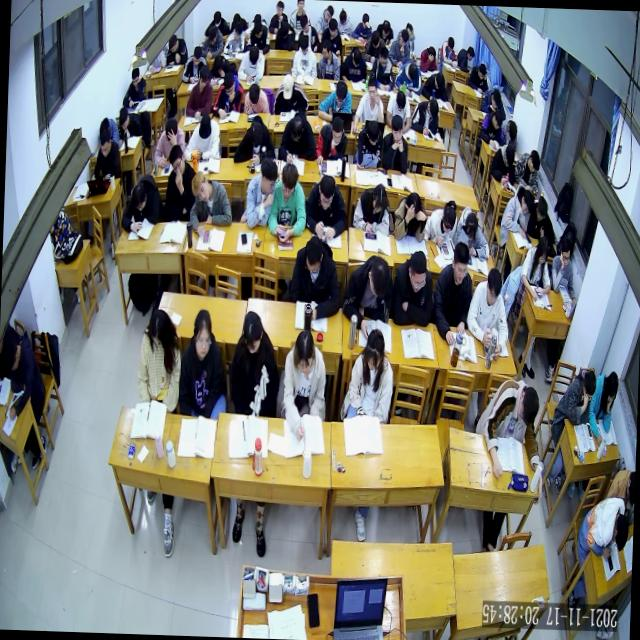bow: (120, 170, 164, 231), (232, 112, 276, 164), (452, 204, 490, 260), (316, 78, 352, 122), (526, 194, 556, 243), (392, 58, 422, 97), (479, 82, 507, 118), (420, 70, 450, 102), (117, 106, 146, 139), (242, 80, 270, 114), (207, 54, 236, 86), (274, 18, 296, 50)
down: (366, 254, 391, 298), (362, 328, 386, 372), (292, 327, 314, 372), (242, 308, 264, 352), (516, 383, 540, 423), (407, 250, 428, 293), (148, 305, 168, 347), (304, 231, 324, 272), (317, 172, 336, 209), (280, 160, 298, 197), (0, 336, 19, 369), (613, 513, 629, 552), (486, 267, 502, 304), (167, 143, 185, 175), (603, 367, 618, 403), (404, 190, 421, 220), (582, 366, 596, 402), (130, 181, 146, 212), (440, 201, 456, 231), (248, 118, 264, 147), (371, 183, 386, 213), (329, 116, 344, 144), (464, 210, 478, 240), (333, 78, 348, 105), (290, 115, 304, 143), (364, 118, 378, 146), (198, 113, 212, 140), (222, 68, 235, 97), (536, 236, 549, 265), (164, 114, 178, 140), (519, 189, 533, 215), (535, 194, 548, 222), (282, 70, 294, 99), (98, 126, 110, 154), (528, 148, 540, 174), (436, 233, 450, 253), (394, 89, 406, 112), (198, 66, 209, 90), (503, 142, 514, 166), (118, 105, 129, 128), (407, 59, 418, 82), (298, 32, 309, 54), (492, 108, 503, 130), (167, 34, 179, 54), (248, 42, 260, 62), (427, 96, 439, 116), (248, 82, 260, 102), (491, 87, 502, 108), (192, 44, 202, 66), (327, 17, 338, 37), (351, 45, 362, 65), (378, 44, 389, 64), (507, 119, 517, 141), (434, 70, 445, 89), (130, 67, 140, 87), (208, 22, 218, 42), (232, 22, 242, 42), (253, 18, 263, 38), (299, 12, 309, 32), (279, 16, 289, 36), (400, 28, 410, 48), (370, 28, 380, 47), (212, 6, 222, 24), (338, 4, 347, 24), (212, 56, 223, 72), (382, 19, 391, 37), (477, 62, 486, 80), (322, 4, 332, 20), (426, 45, 436, 61), (446, 33, 456, 49), (466, 42, 474, 58), (362, 12, 368, 30)
lookup: (192, 308, 212, 359), (449, 238, 469, 284), (190, 167, 209, 199), (390, 112, 404, 140), (560, 238, 570, 268), (367, 78, 378, 103), (275, 1, 284, 17), (296, 0, 305, 11)
sit: (473, 374, 544, 478), (227, 307, 280, 415), (178, 304, 228, 414), (134, 305, 182, 412), (340, 326, 394, 419), (287, 232, 342, 319), (431, 236, 474, 345), (280, 324, 328, 418), (340, 249, 391, 337), (0, 332, 47, 423), (465, 266, 510, 361), (576, 491, 631, 560), (266, 160, 308, 244), (389, 248, 434, 326), (304, 169, 346, 238), (240, 155, 278, 230), (188, 168, 232, 232), (163, 143, 198, 222), (550, 366, 596, 426), (587, 367, 619, 444), (520, 234, 552, 302), (276, 110, 317, 163), (352, 178, 392, 232), (182, 111, 222, 161), (499, 184, 534, 238), (379, 112, 409, 174), (392, 188, 427, 241), (352, 79, 384, 136), (550, 236, 578, 301), (152, 116, 186, 168), (314, 115, 348, 166), (272, 68, 308, 114), (92, 125, 123, 178), (426, 198, 458, 248), (212, 70, 244, 120), (186, 66, 214, 121), (353, 115, 382, 167), (384, 87, 412, 133), (290, 30, 318, 76), (514, 146, 540, 194), (488, 140, 516, 184), (409, 95, 442, 132), (479, 106, 507, 148), (368, 39, 394, 84), (236, 44, 266, 82), (181, 44, 209, 84), (316, 40, 342, 80), (340, 42, 368, 79), (122, 65, 146, 106), (388, 26, 412, 66), (245, 15, 271, 51), (296, 13, 320, 52), (361, 28, 386, 64), (222, 17, 246, 53), (320, 16, 342, 55), (199, 22, 223, 57), (165, 32, 189, 66), (203, 8, 230, 38), (267, 0, 289, 35), (467, 61, 489, 96), (438, 32, 458, 68), (350, 11, 373, 42), (500, 112, 518, 149), (314, 4, 334, 36), (418, 40, 438, 70), (288, 0, 305, 34), (375, 16, 394, 44), (455, 44, 475, 70), (336, 7, 355, 34)
